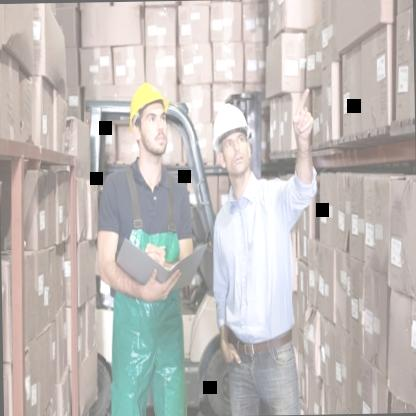helmet: (204, 92, 258, 186), (122, 73, 173, 150)
